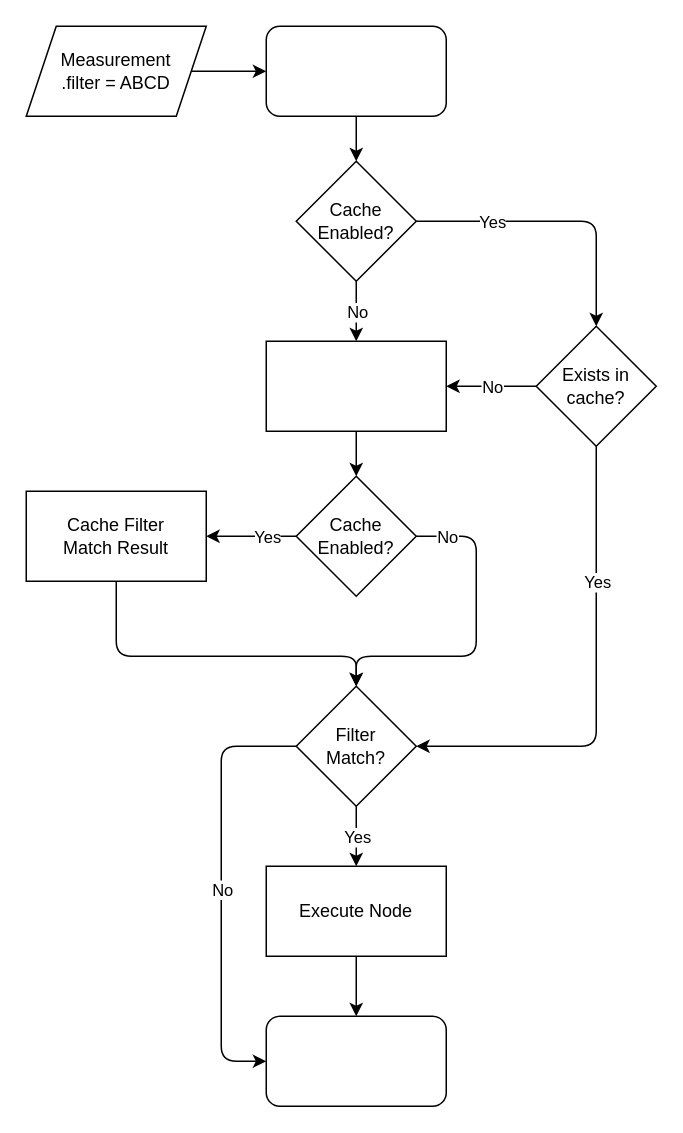
This 683x1133 diagram has some shape labels left out. Each missing label, with the centre of its shape:
Evaluate Filter: the point at 355,385
Exit: the point at 355,1060
Filter Manager Receives Measurement: the point at 355,70
